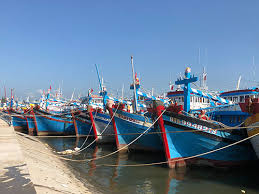tau_dansu: (155, 83, 255, 169), (106, 92, 176, 156), (64, 105, 116, 141), (92, 97, 129, 147)
